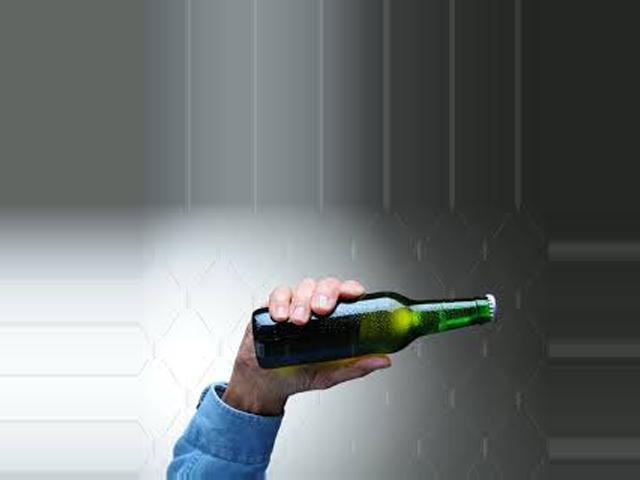beer: (250, 292, 498, 370)
